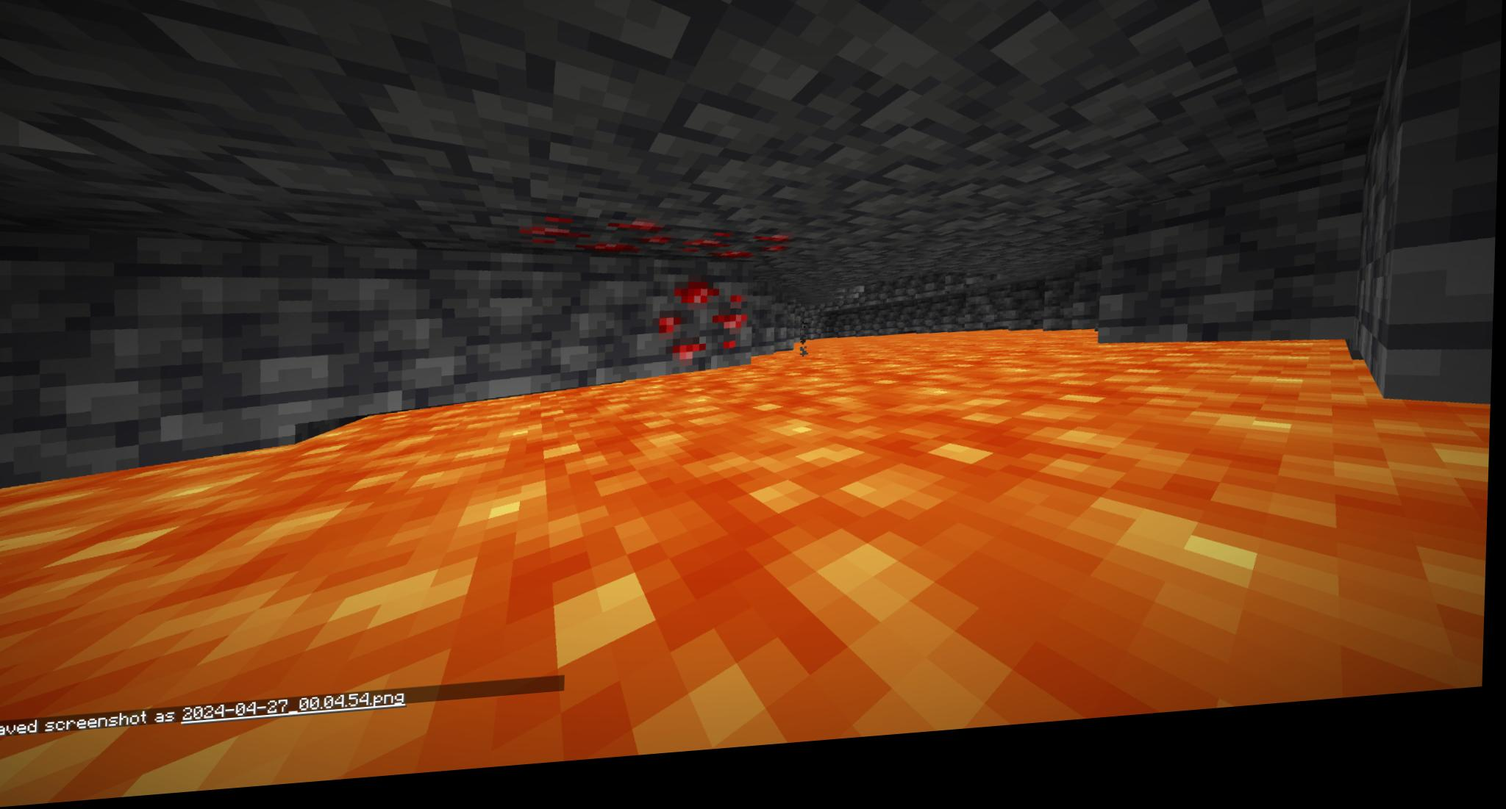redstone ore: (521, 210, 667, 278), (659, 282, 756, 380), (684, 235, 790, 281)
